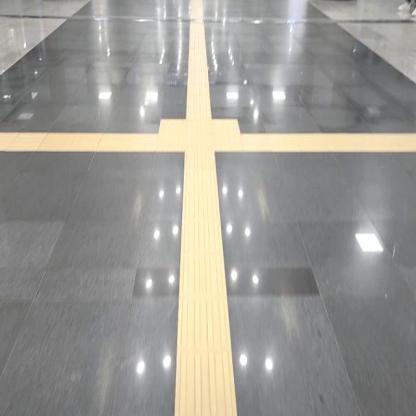podotacti: (174, 152, 236, 415), (143, 98, 257, 184), (0, 126, 155, 153), (241, 130, 415, 153), (183, 0, 213, 118)
